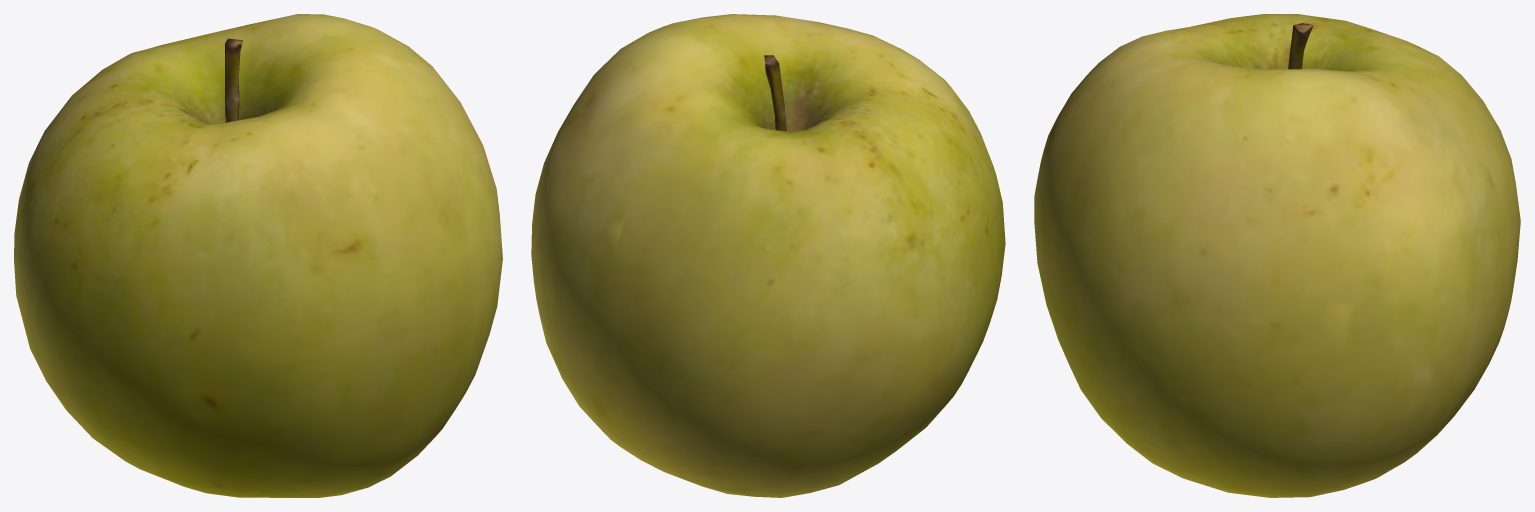
Rendered from apple_a.glb.
3 renders of one model, left to right at view 1: azimuth 30°, elevation 25°; view 2: azimuth 150°, elevation 25°; view 3: azimuth 270°, elevation 25°, orthographic. The views are drawn at different scales.
Parts seen in each view (by area): view 1: td3nedtla_LOD0_TIER2_000; view 2: td3nedtla_LOD0_TIER2_000; view 3: td3nedtla_LOD0_TIER2_000.
Part boxes in pixels (box(x1,y1,x2,y2)): td3nedtla_LOD0_TIER2_000: box(14, 14, 502, 497); td3nedtla_LOD0_TIER2_000: box(531, 14, 1005, 497); td3nedtla_LOD0_TIER2_000: box(1034, 14, 1520, 497).
Size of the model in its own units: 0.1054 by 0.1001 by 0.1048.
Materials: 1 (1 with a texture image).
